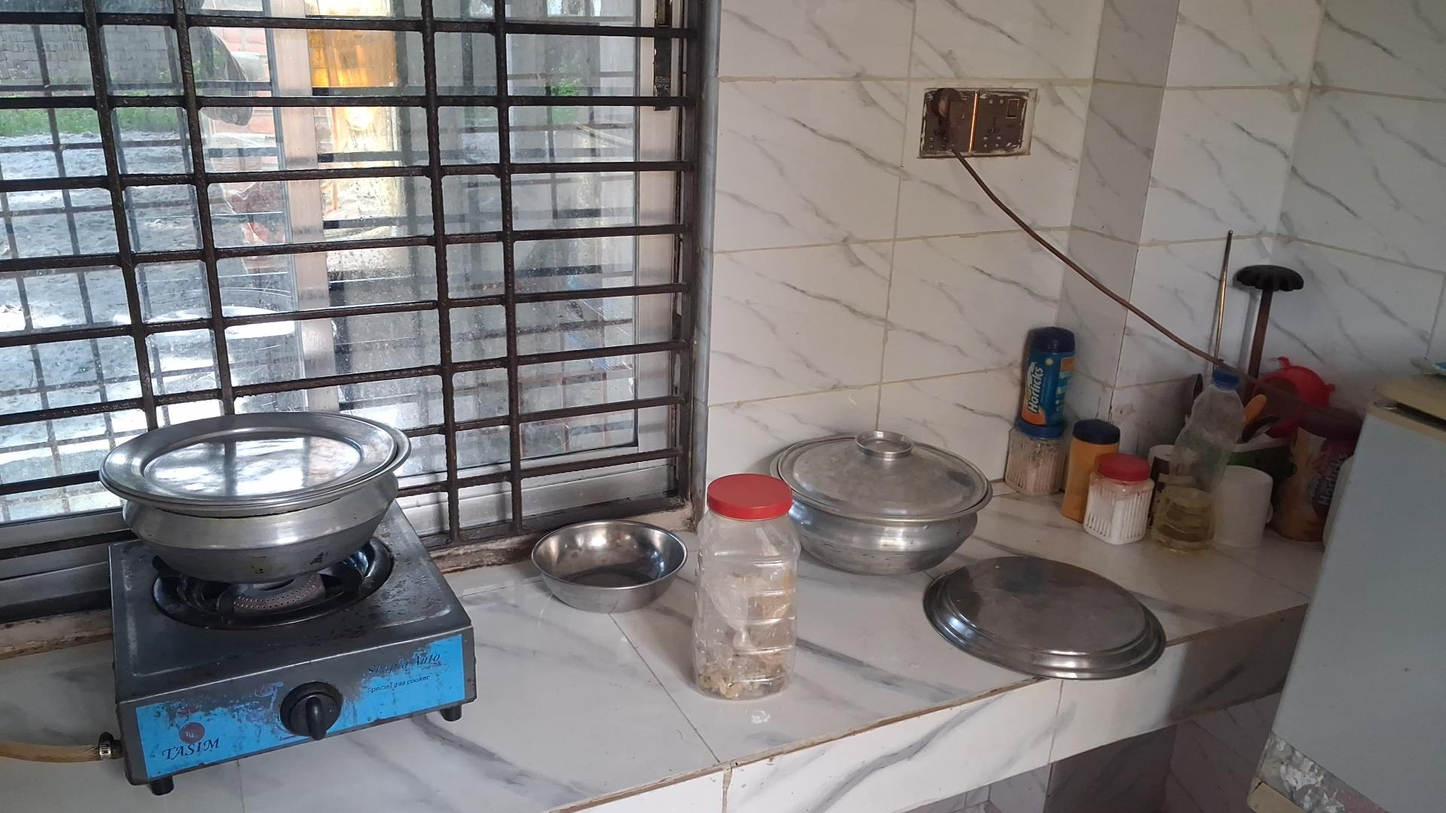Bottle: (1150, 366, 1245, 555)
Bowl: (531, 519, 688, 613)
Cup: (1210, 464, 1273, 546)
Jar: (691, 473, 801, 701), (1084, 455, 1151, 551), (1012, 326, 1073, 430), (1006, 425, 1070, 504)
Plate: (913, 549, 1166, 677)
Pot: (99, 416, 413, 585), (769, 430, 993, 577)
